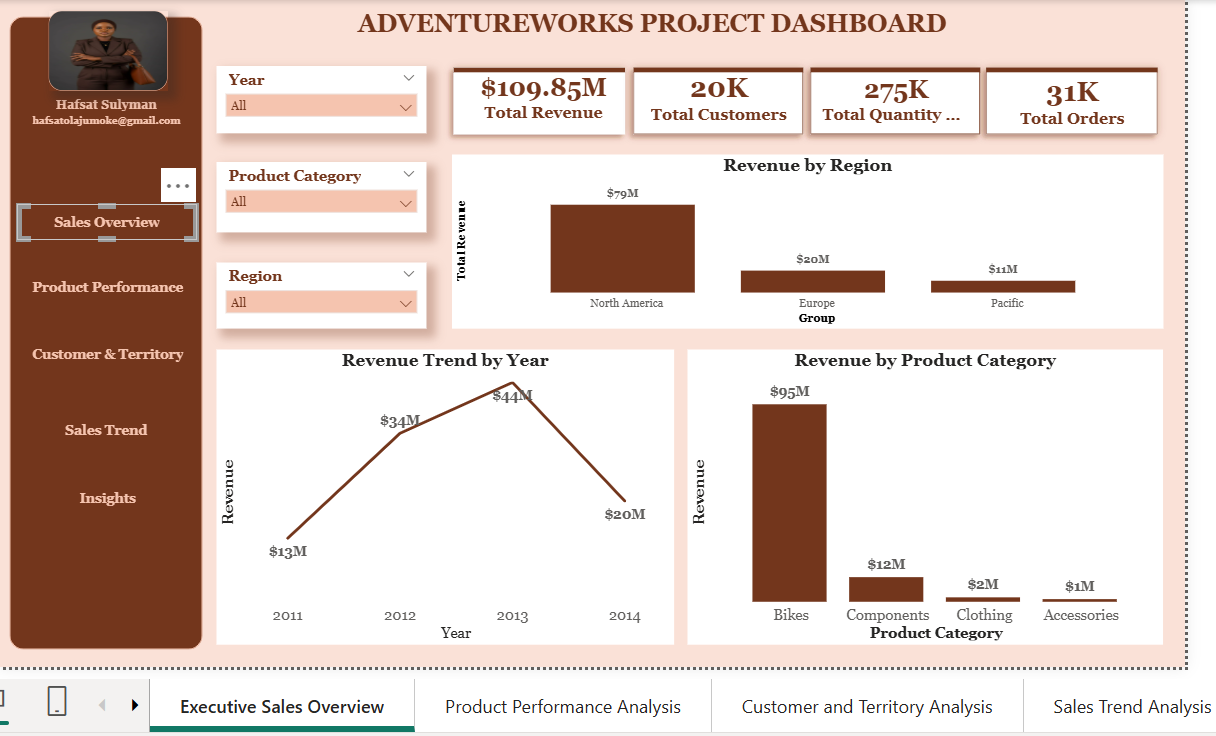

The page's visual inventory and layout, read from the dashboard file:
{"tool":"powerbi","page":{"name":"Executive Sales Overview","canvas":[1280,720],"ordinal":0},"visuals":[{"type":"columnChart","title":"Revenue by Region","fields":{"Category":["Sales SalesTerritory.Group"],"Y":["Sales SalesOrderDetail.Total Revenue"]},"box":[488.3,167,768.3,187.7],"z":0},{"type":"cardVisual","fields":{"Data":["Sales SalesOrderDetail.Total Revenue"]},"box":[461.3,42.9,243.4,130.4],"z":1000},{"type":"cardVisual","fields":{"Data":["Sales Customer.Total Customers"]},"box":[655.3,42.9,241.8,130.4],"z":2000},{"type":"cardVisual","fields":{"Data":["Sales SalesOrderHeader.Total Order"]},"box":[1037.1,42.9,243.4,130.4],"z":3000},{"type":"cardVisual","fields":{"Data":["Sales SalesOrderDetail.Total Quantity Sold"]},"box":[846.2,42.9,241.8,130.4],"z":4000},{"type":"columnChart","title":"Revenue by Product Category","fields":{"Category":["Production ProductCategory.Name"],"Y":["Sales SalesOrderDetail.Total Revenue"]},"box":[743.2,377.3,513.3,319],"z":5000},{"type":"lineChart","title":"Revenue Trend  by Year","fields":{"Category":["Sales SalesOrderHeader.OrderDate.Variation.Date Hierarchy.Year"],"Y":["Sales SalesOrderDetail.Total Revenue"]},"box":[234.8,377.3,493.9,319],"z":6000},{"type":"textbox","title":"ADVENTUREWORKS PROJECT DASHBOARD","box":[377,9.5,655.3,33.4],"z":7000},{"type":"slicer","fields":{"Values":["Sales SalesOrderHeader.OrderDate.Variation.Date Hierarchy.Year"]},"box":[234.8,71.2,226.7,72.9],"z":8000},{"type":"slicer","fields":{"Values":["Production ProductCategory.Name"]},"box":[234.8,174.9,226.7,76.1],"z":9000},{"type":"slicer","fields":{"Values":["Sales SalesTerritory.Group"]},"box":[234.8,272,226.7,71.2],"z":10000},{"type":"shape","box":[11.7,18.3,208.3,683.3],"z":11000},{"type":"textbox","box":[48.3,96.7,135,31.7],"z":12000},{"type":"image","box":[53.3,11.7,128.3,86.7],"z":13000},{"type":"textbox","box":[30,113.3,176.7,28.3],"z":14000},{"type":"actionButton","box":[17.8,238,194.3,38.9],"z":15000},{"type":"actionButton","box":[19.4,307.7,192.7,40.5],"z":15001},{"type":"actionButton","box":[19.4,380.5,192.7,40.5],"z":15002},{"type":"actionButton","box":[17.8,463.1,192.7,38.9],"z":15003}]}

Visuals, with their boxes on the page's 1280x720 design canvas (x1, y1, x2, y2). These are canvas units, not pixel positions in the 1216x736 screenshot, which may show the page scaled, cropped or inside an application window:
"Revenue by Region" columnChart: crop(488, 167, 1257, 355)
cardVisual - Sales SalesOrderDetail.Total Revenue: crop(461, 43, 705, 173)
cardVisual - Sales Customer.Total Customers: crop(655, 43, 897, 173)
cardVisual - Sales SalesOrderHeader.Total Order: crop(1037, 43, 1280, 173)
cardVisual - Sales SalesOrderDetail.Total Quantity Sold: crop(846, 43, 1088, 173)
"Revenue by Product Category" columnChart: crop(743, 377, 1256, 696)
"Revenue Trend  by Year" lineChart: crop(235, 377, 729, 696)
"ADVENTUREWORKS PROJECT DASHBOARD" textbox: crop(377, 10, 1032, 43)
slicer - Sales SalesOrderHeader.OrderDate.Variation.Date Hierarchy.Year: crop(235, 71, 462, 144)
slicer - Production ProductCategory.Name: crop(235, 175, 462, 251)
slicer - Sales SalesTerritory.Group: crop(235, 272, 462, 343)
shape: crop(12, 18, 220, 702)
textbox: crop(48, 97, 183, 128)
image: crop(53, 12, 182, 98)
textbox: crop(30, 113, 207, 142)
actionButton: crop(18, 238, 212, 277)
actionButton: crop(19, 308, 212, 348)
actionButton: crop(19, 380, 212, 421)
actionButton: crop(18, 463, 210, 502)
